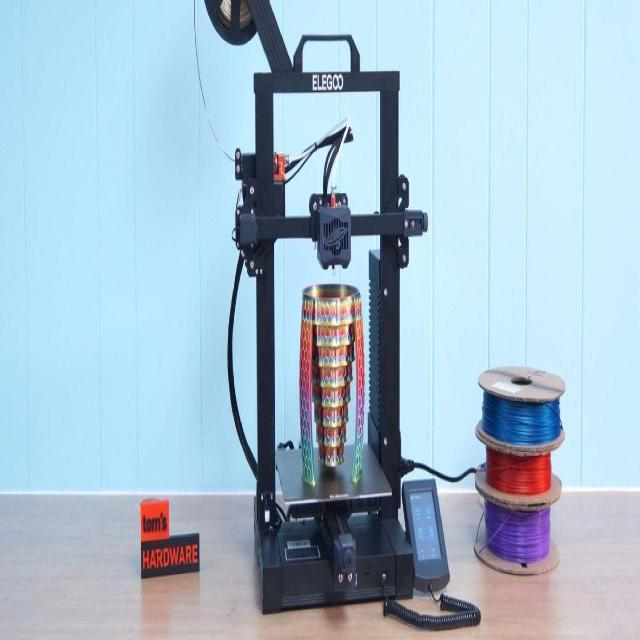Without deffect: (296, 276, 370, 496)
